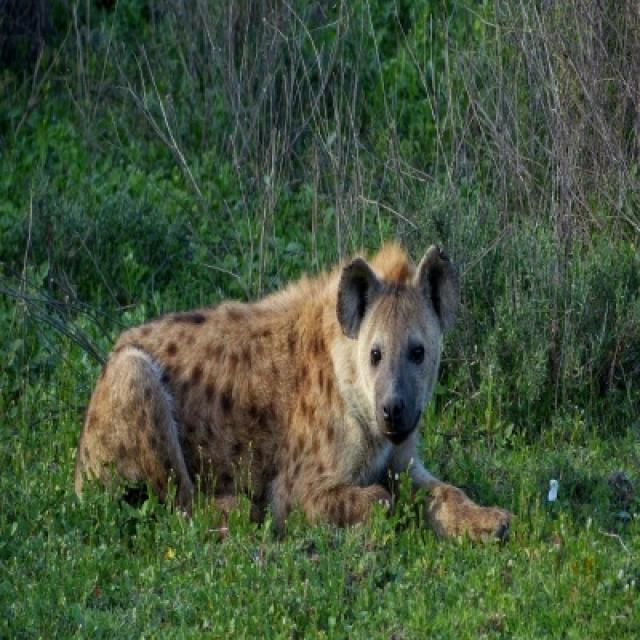hyena: (77, 242, 509, 538)
